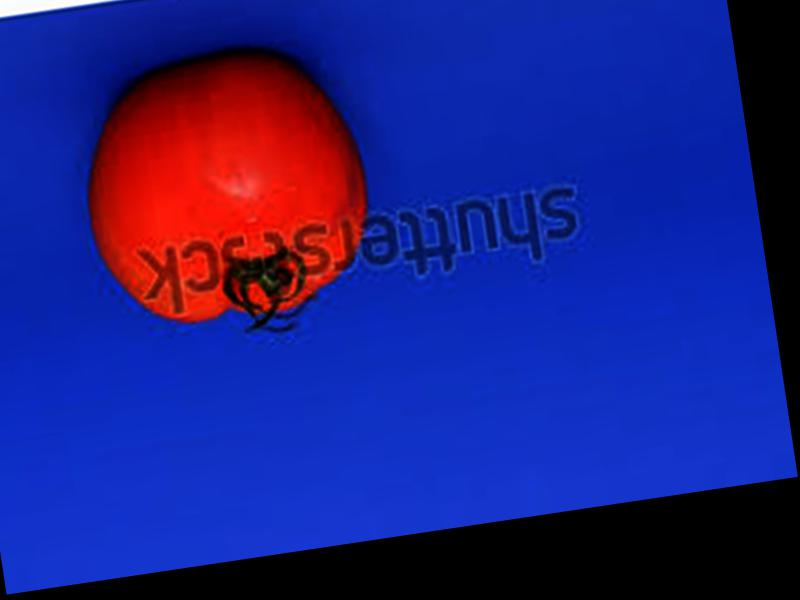Tomato: (65, 41, 378, 340)
